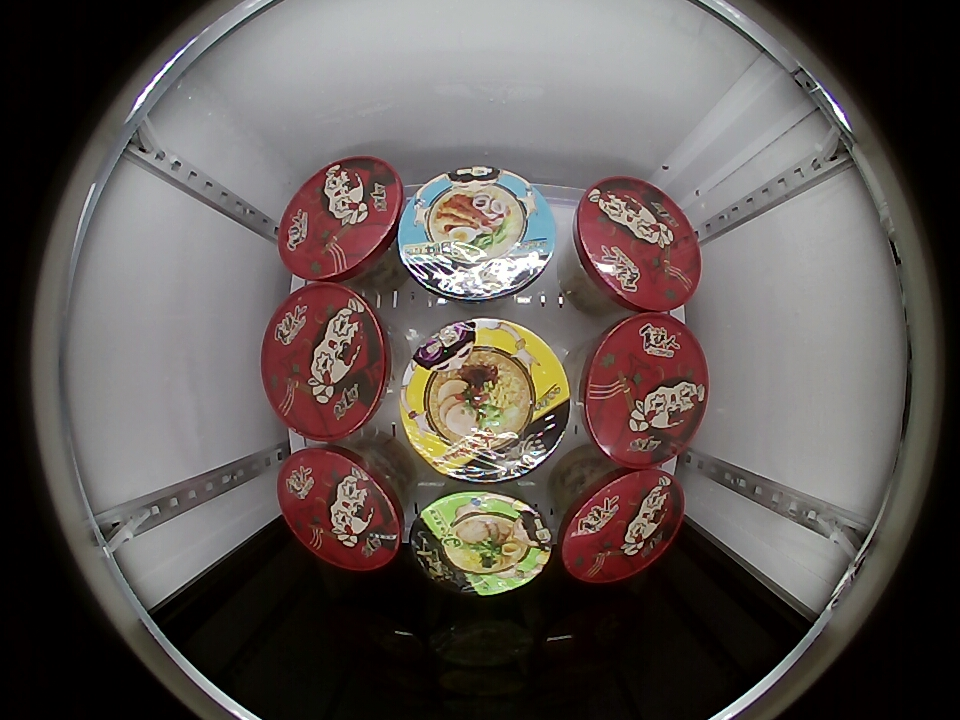suanlafen: (262, 283, 397, 441), (573, 314, 710, 468), (570, 177, 703, 312), (277, 445, 408, 570), (278, 157, 405, 283), (556, 466, 686, 583)
tangdaren: (407, 487, 555, 596)
tangdaren2: (399, 318, 572, 483)
tangdaren3: (398, 166, 556, 305)
